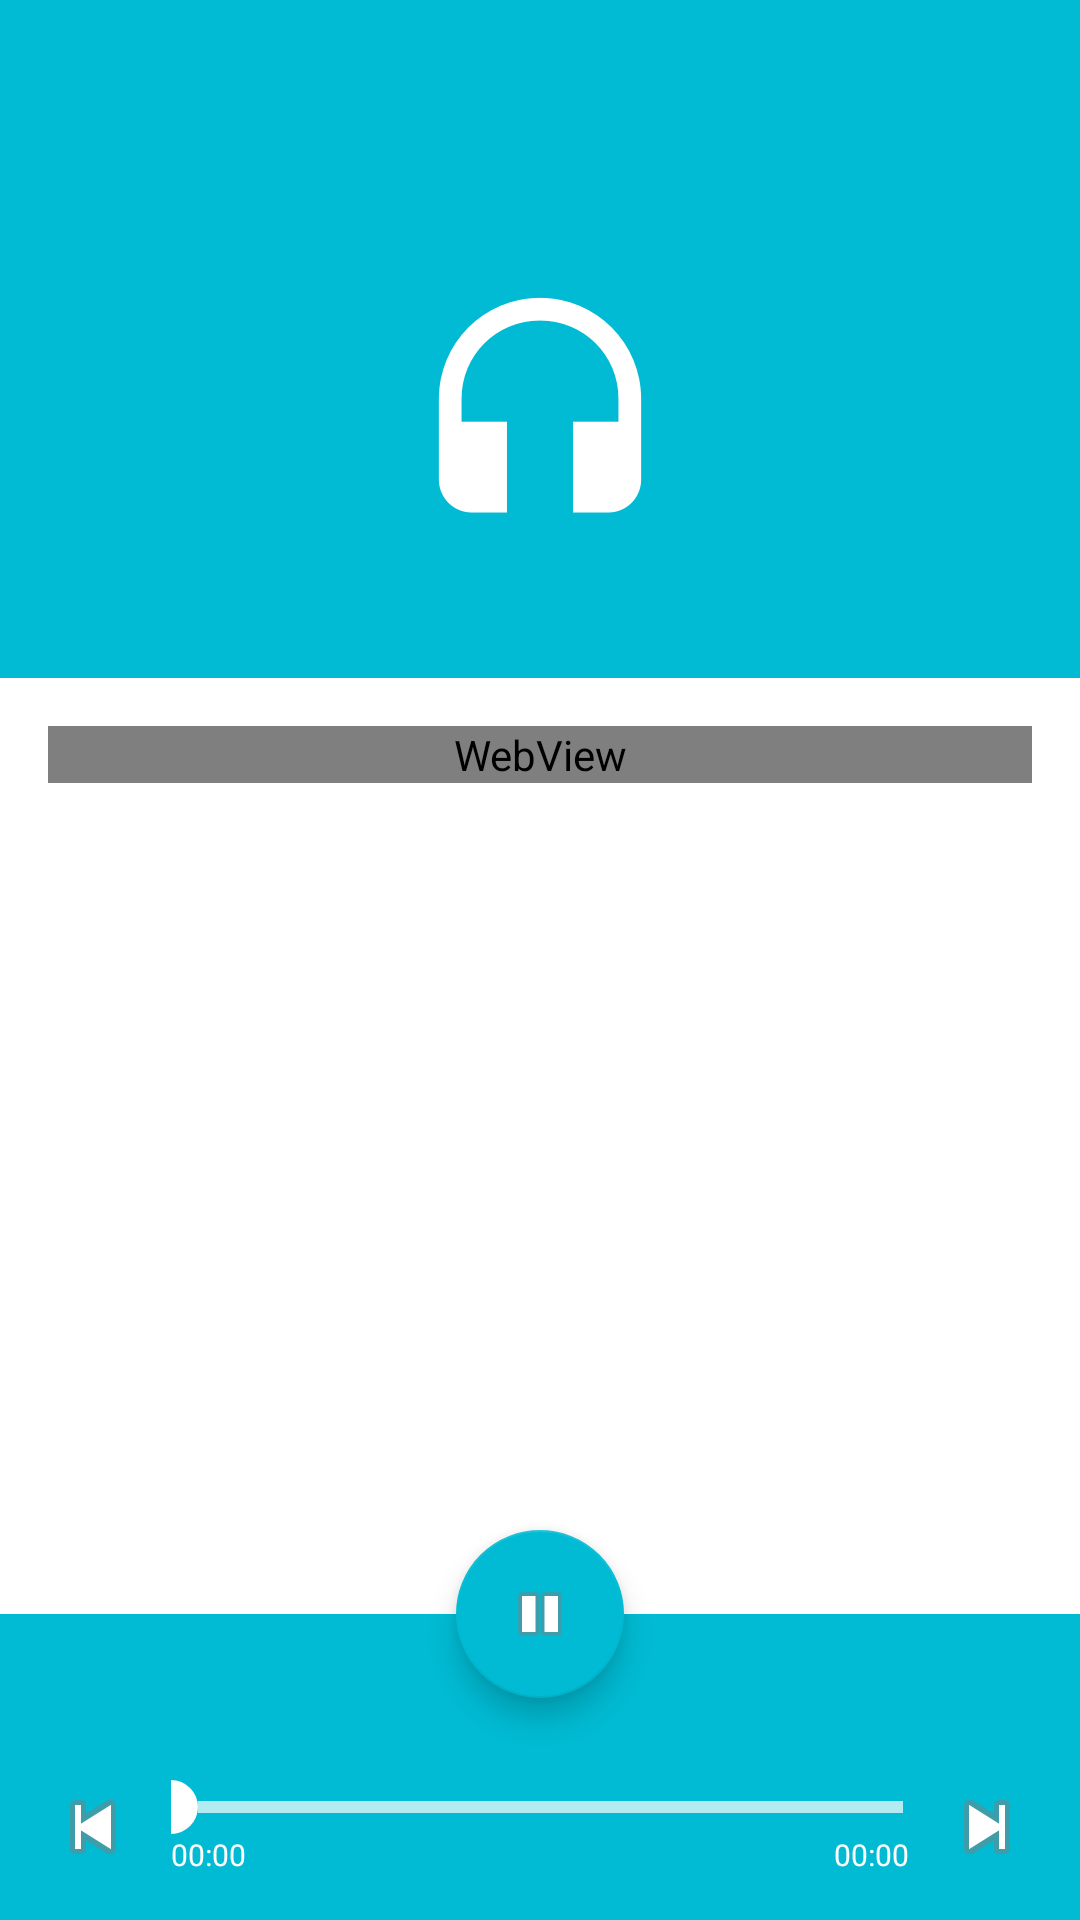

Icons on this 1080×1920 Android screen, each with the point to tap as [x,y]:
headset: [540,405]
next: [987,1827]
pause: [540,1614]
previous: [93,1827]
